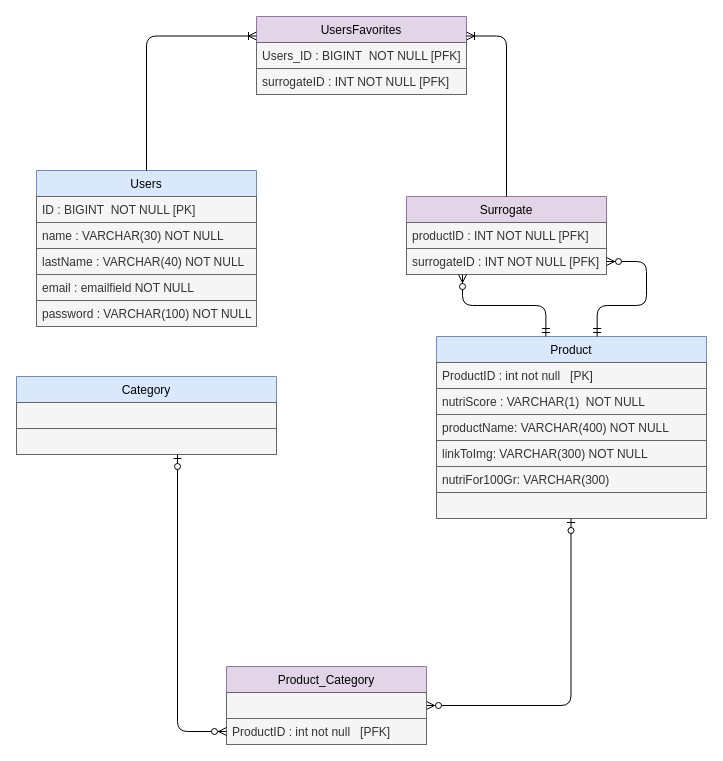
Image size: 723x761. Some labels were removed from this diagram. The shapes that lost their labels are listed below. From the top down, each one's centre as x and y in pixels, then its label:
(146,415): categoryID : int not null [PK]
(146,441): categoryName : VARCHAR (400) NOT NULL
(571,505): linkToURLOFF: VARCHAR(300) NOT NULL
(326,705): categoryID : int not null [PFK]
